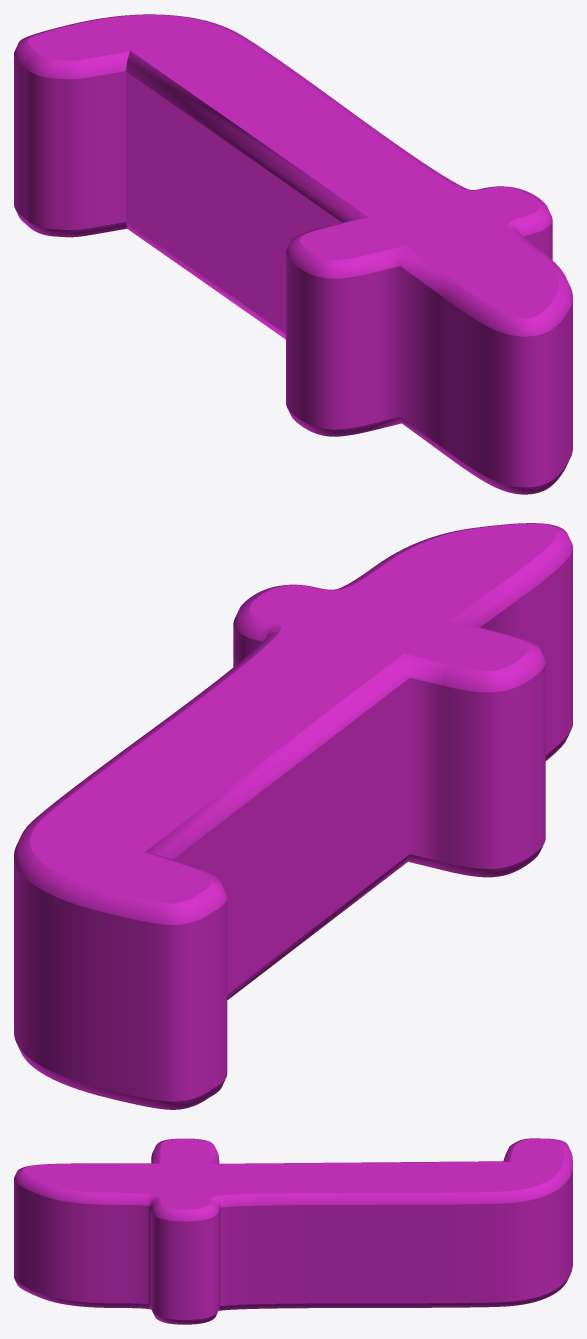
The model's file is Blocky_Letter_t.fbx.
3 renders of one model, top to bottom at view 1: azimuth 30°, elevation 25°; view 2: azimuth 150°, elevation 25°; view 3: azimuth 270°, elevation 25°, orthographic. The views are drawn at different scales.
Parts seen in each view (by area): view 1: BlockyLetter_t; view 2: BlockyLetter_t; view 3: BlockyLetter_t.
Part boxes in pixels (bbox=[...]): BlockyLetter_t: bbox=[14, 14, 572, 494]; BlockyLetter_t: bbox=[14, 523, 572, 1109]; BlockyLetter_t: bbox=[14, 1138, 572, 1324].
Bounding box in the file's own units: 0.2053 × 0.14 × 0.6174.
